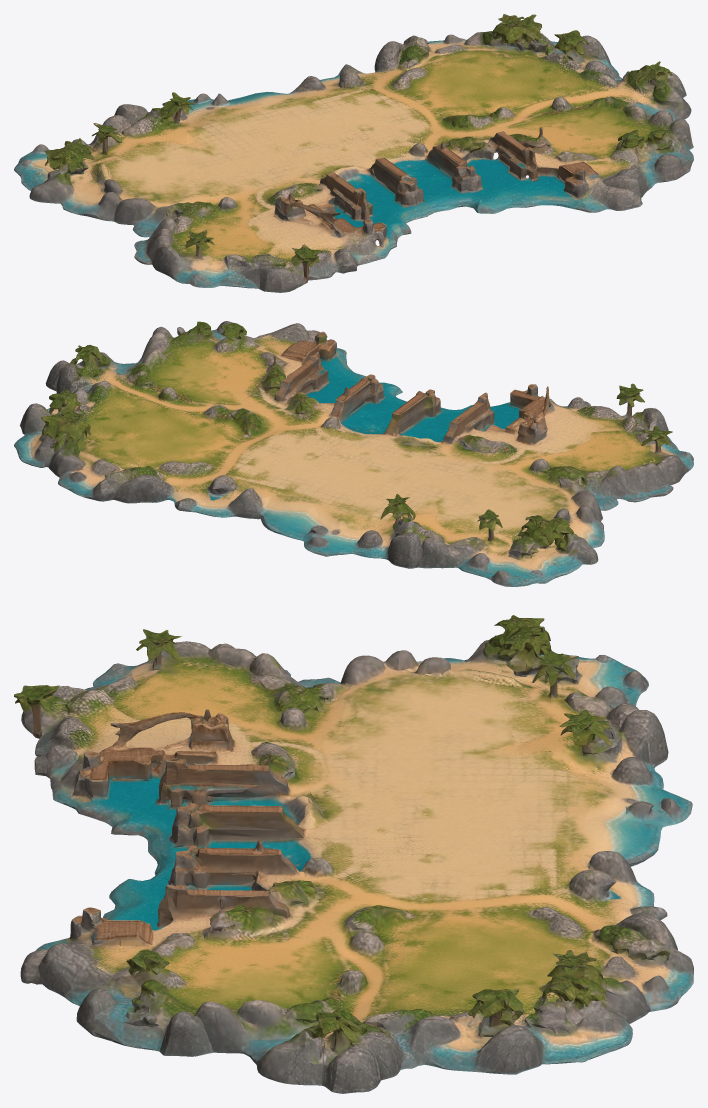
File: Main Island.glb
3 renders of one model, top to bottom at view 1: azimuth 30°, elevation 25°; view 2: azimuth 150°, elevation 25°; view 3: azimuth 270°, elevation 25°, orthographic. The views are drawn at different scales.
Visible parts, largest first — view 1: Mesh_0; view 2: Mesh_0; view 3: Mesh_0.
Boxes of the visible parts, <box> form: Mesh_0: <box>14,14,693,292</box>; Mesh_0: <box>14,321,693,586</box>; Mesh_0: <box>14,615,693,1093</box>.
Size of the model in its own units: 1.9 by 0.1269 by 1.23.
1 material, 1 textured.
